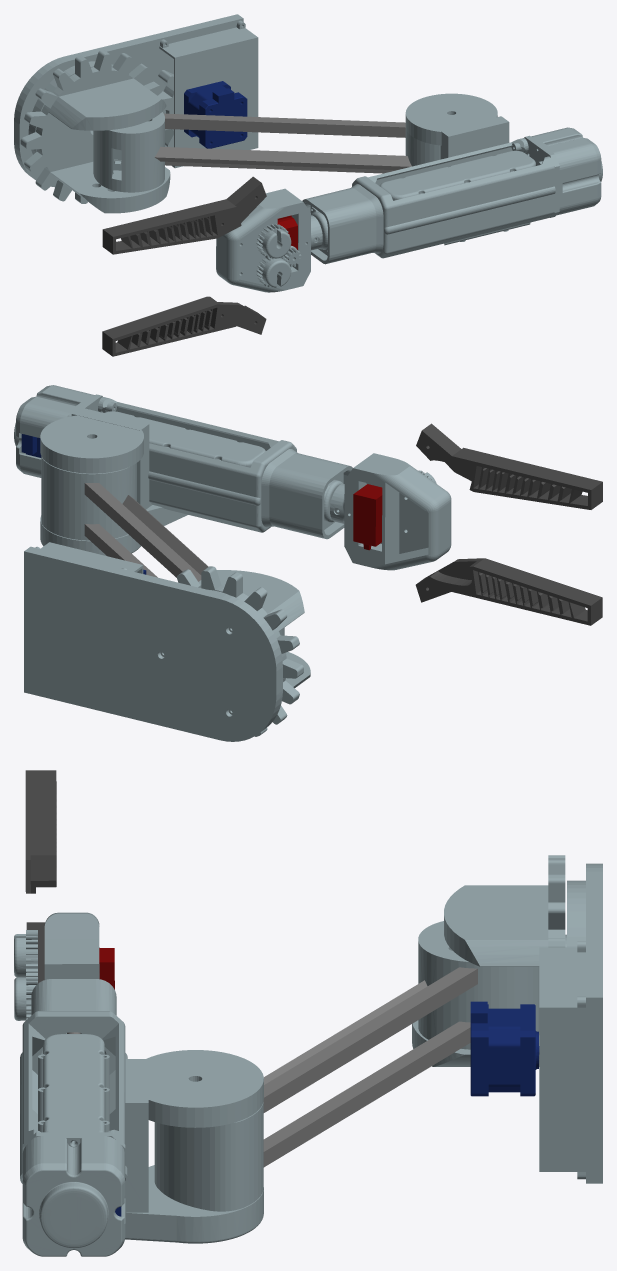
The model's file is robotic_arm.obj.
The picture shows the model from 3 angles, top to bottom: view 1: azimuth 30°, elevation 25°; view 2: azimuth 150°, elevation 25°; view 3: azimuth 270°, elevation 25°; orthographic projection. The views are drawn at different scales.
Parts seen in each view (by area): view 1: robotic_arm; view 2: robotic_arm; view 3: robotic_arm.
Boxes of the visible parts, x1=… form: robotic_arm: x1=14, y1=14, x2=602, y2=356; robotic_arm: x1=14, y1=385, x2=602, y2=741; robotic_arm: x1=14, y1=770, x2=602, y2=1256.
Bounding box in the file's own units: 497 × 146 × 345.
